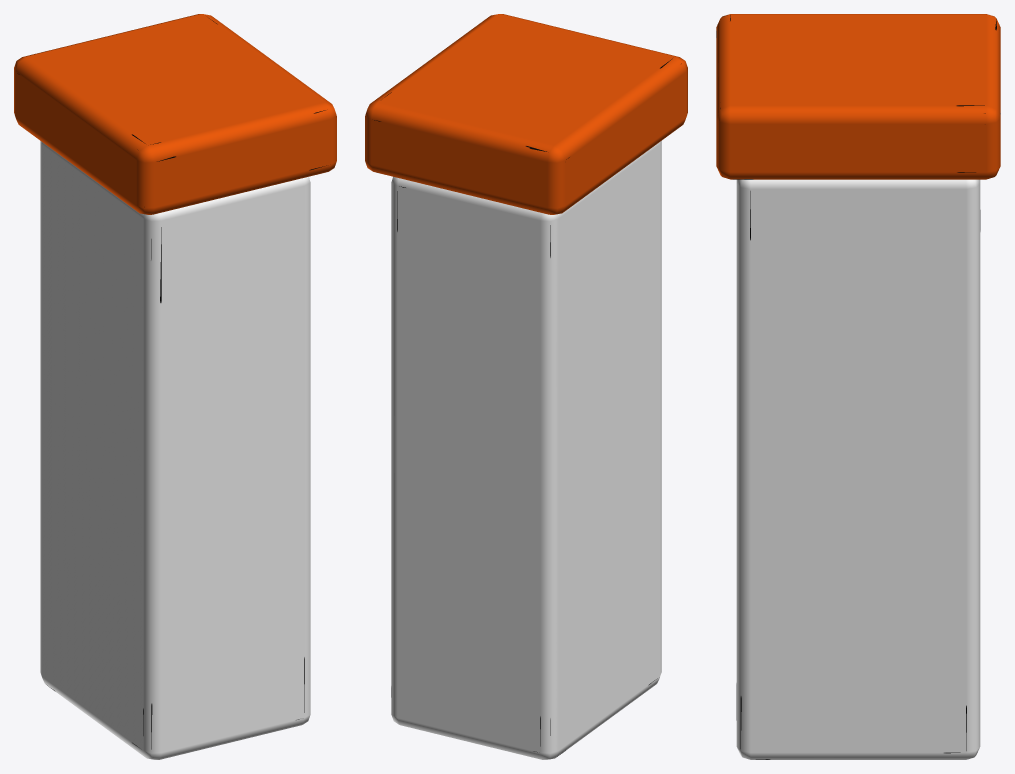
Rendered from fuel-pump-shell-authored-atlas.glb.
The picture shows the model from 3 angles, left to right: view 1: azimuth 30°, elevation 25°; view 2: azimuth 150°, elevation 25°; view 3: azimuth 270°, elevation 25°; orthographic projection. The views are drawn at different scales.
Visible parts, largest first — view 1: Authored surface.011; view 2: Authored surface.011; view 3: Authored surface.011.
Boxes of the visible parts, bbox=[...] form: Authored surface.011: bbox=[14, 14, 336, 759]; Authored surface.011: bbox=[365, 14, 687, 759]; Authored surface.011: bbox=[716, 14, 1000, 759].
Bounding box in the file's own units: 0.6 × 1.8 × 0.7.
1 material, 1 textured.
